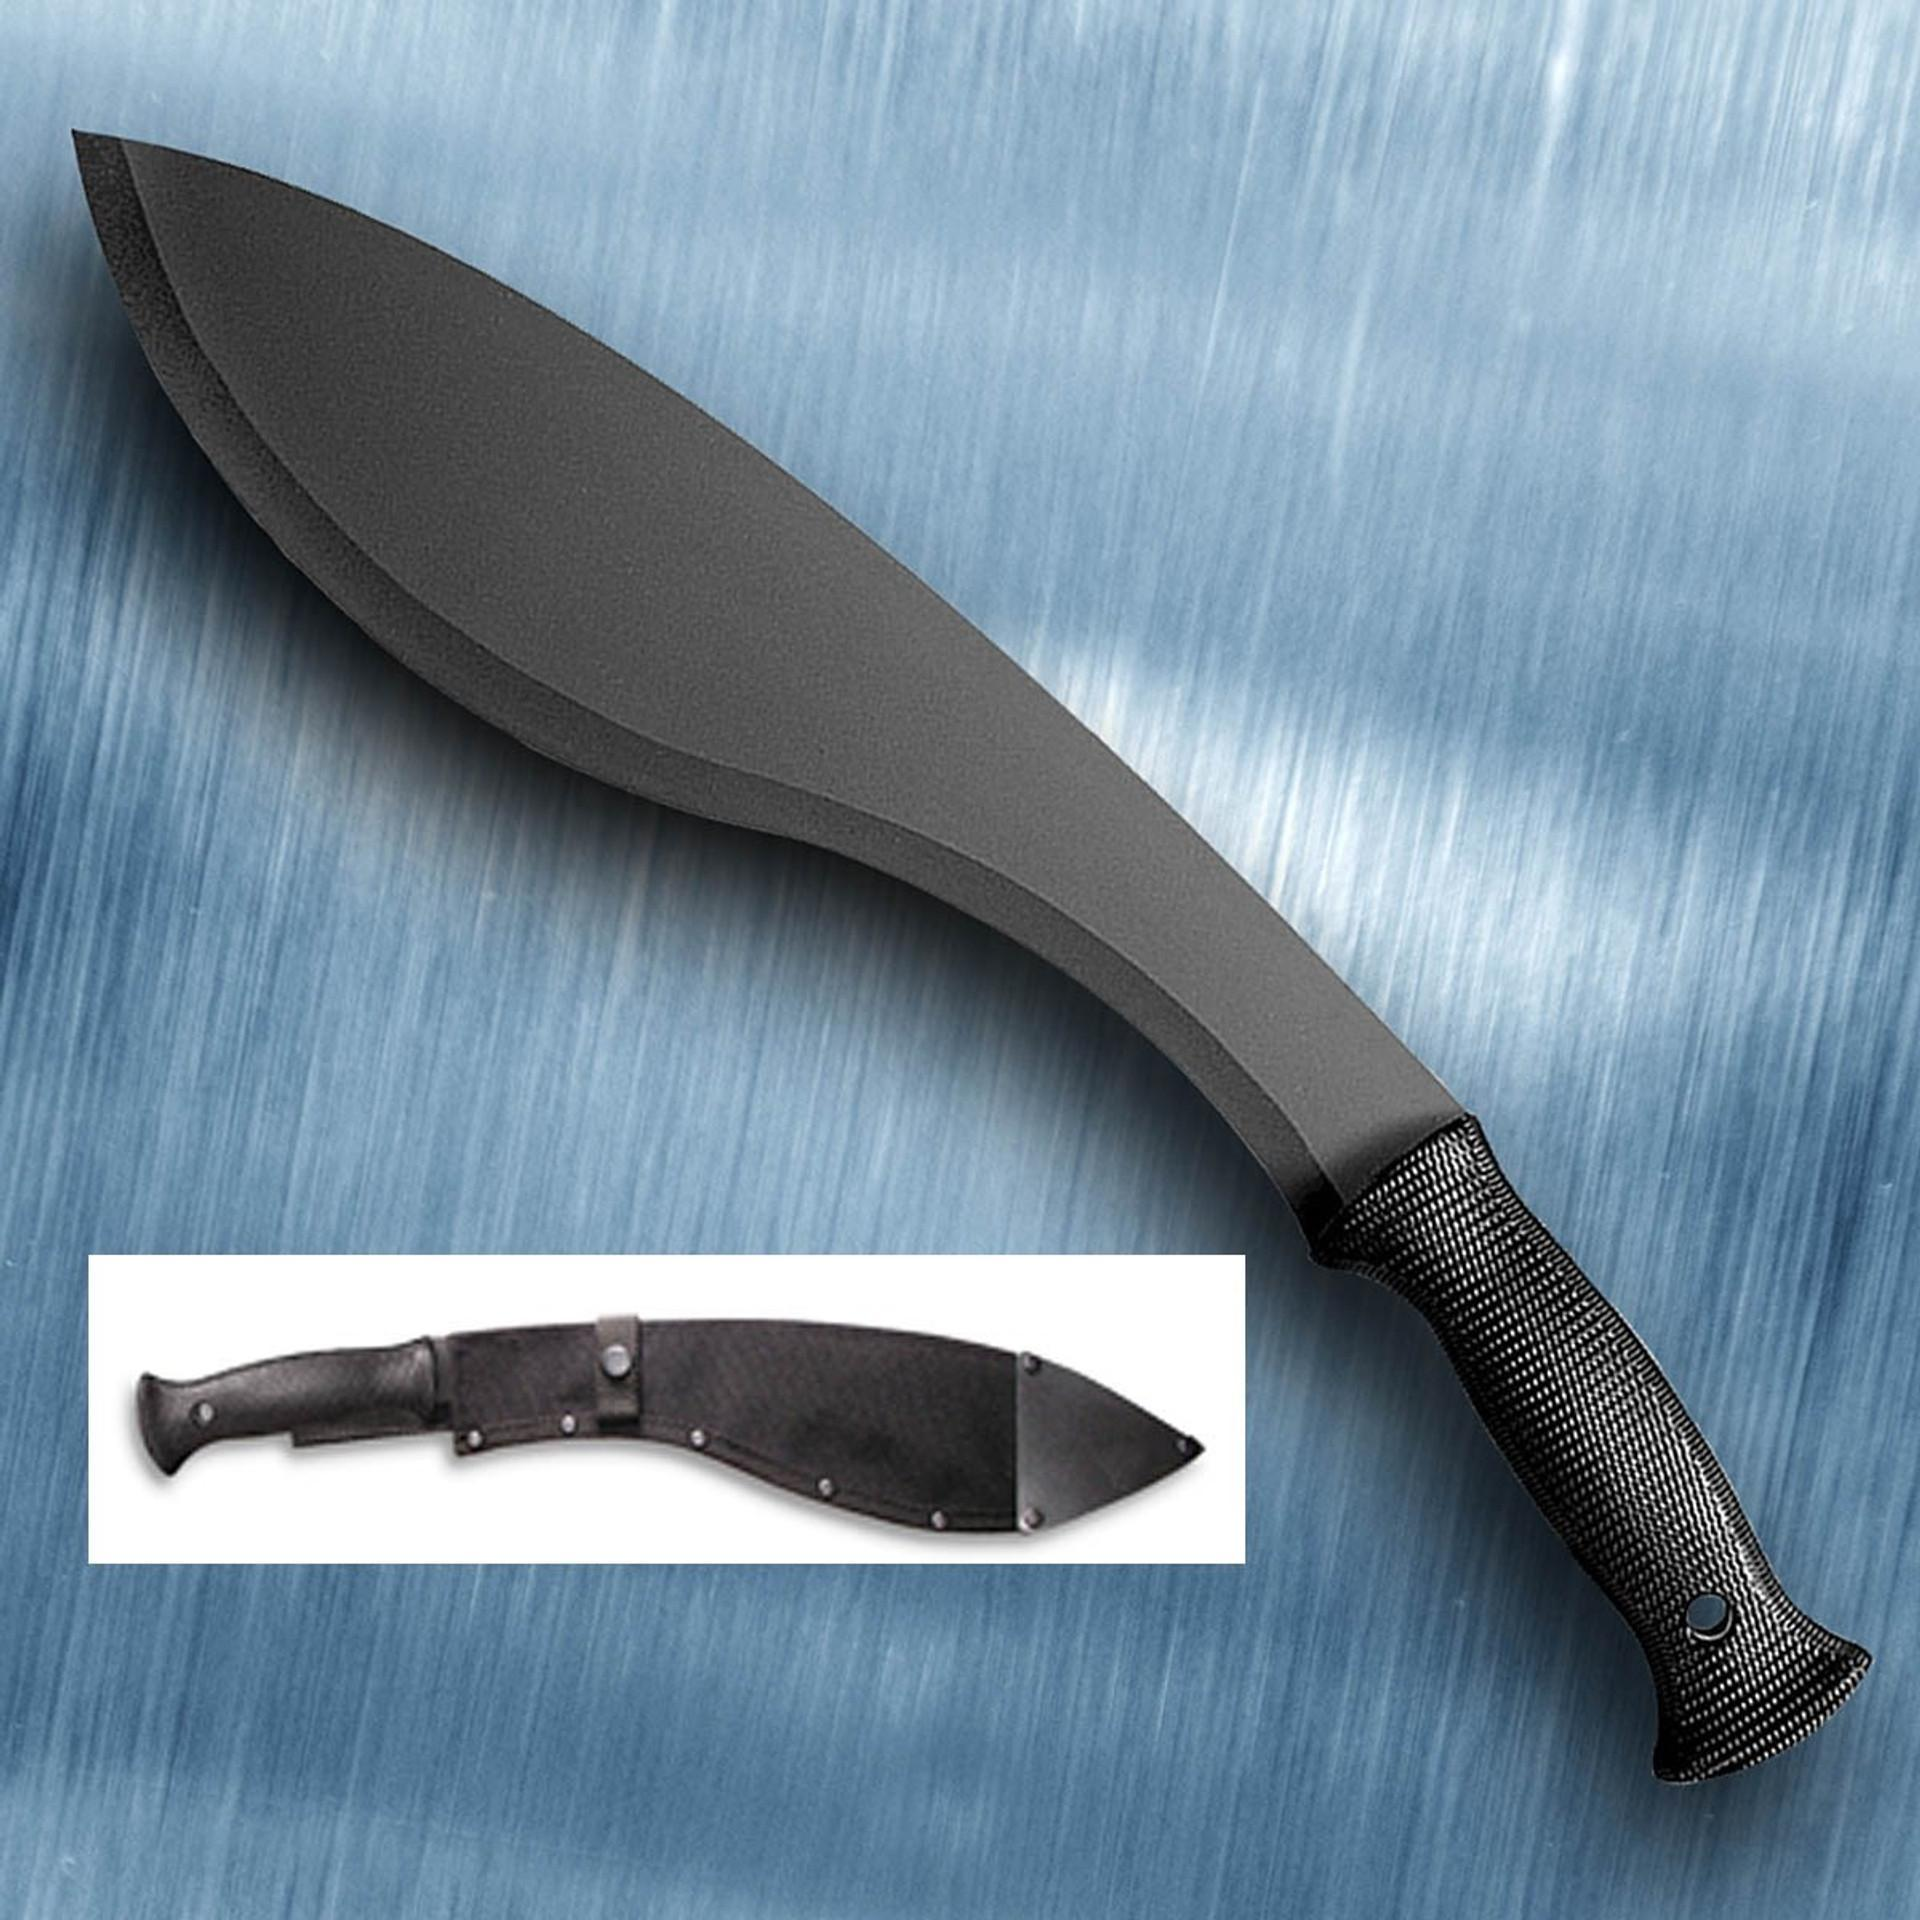facao: (76, 135, 1865, 1778)
